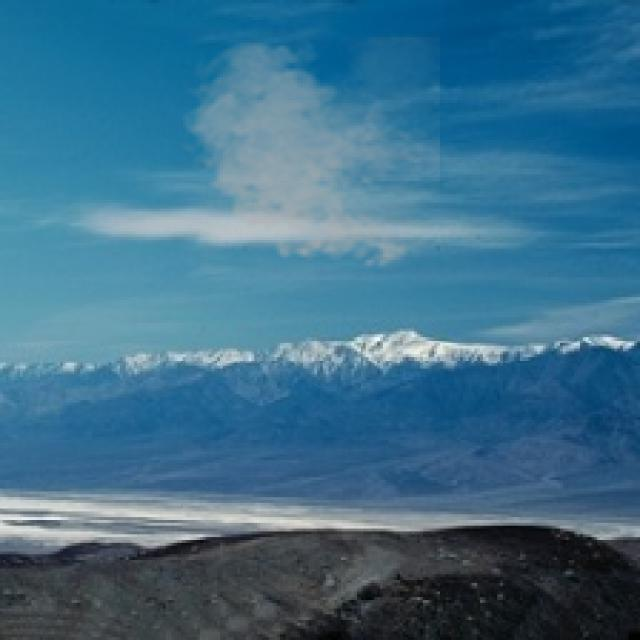smoke: (174, 34, 440, 274)
